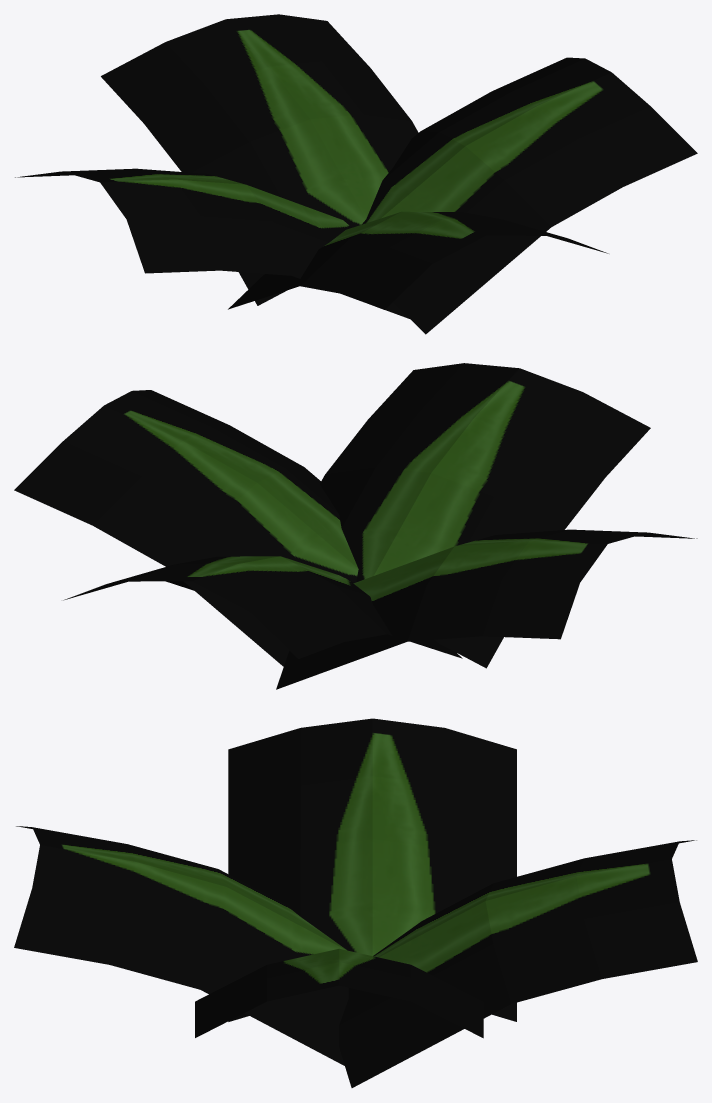
The model's file is Bush_11.fbx.
The picture shows the model from 3 angles, top to bottom: view 1: azimuth 30°, elevation 25°; view 2: azimuth 150°, elevation 25°; view 3: azimuth 270°, elevation 25°; orthographic projection. The views are drawn at different scales.
Visible parts, largest first — view 1: Bush.011; view 2: Bush.011; view 3: Bush.011.
Part boxes in pixels (x1,y1,x2,y2): Bush.011: (15,14,697,334); Bush.011: (14,363,697,689); Bush.011: (14,718,697,1087).
Size of the model in its own units: 1215 by 330 by 1215.
